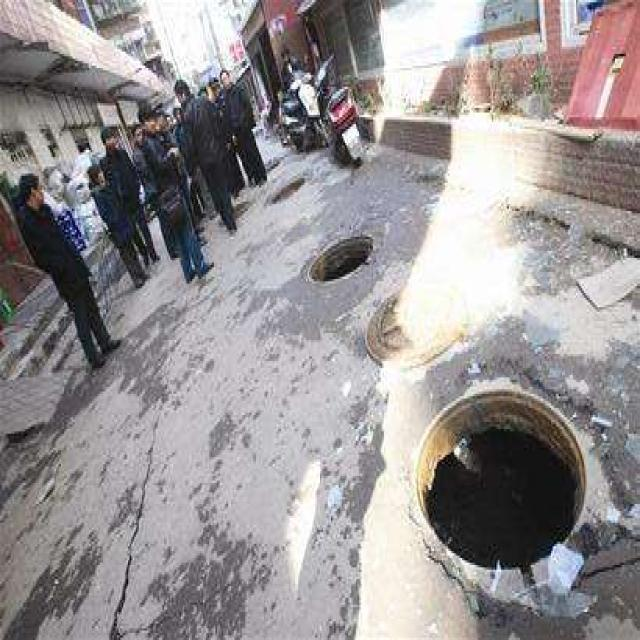cracks: (109, 405, 159, 640)
manhole-cover: (394, 350, 604, 614), (296, 210, 386, 294), (260, 168, 320, 218)
